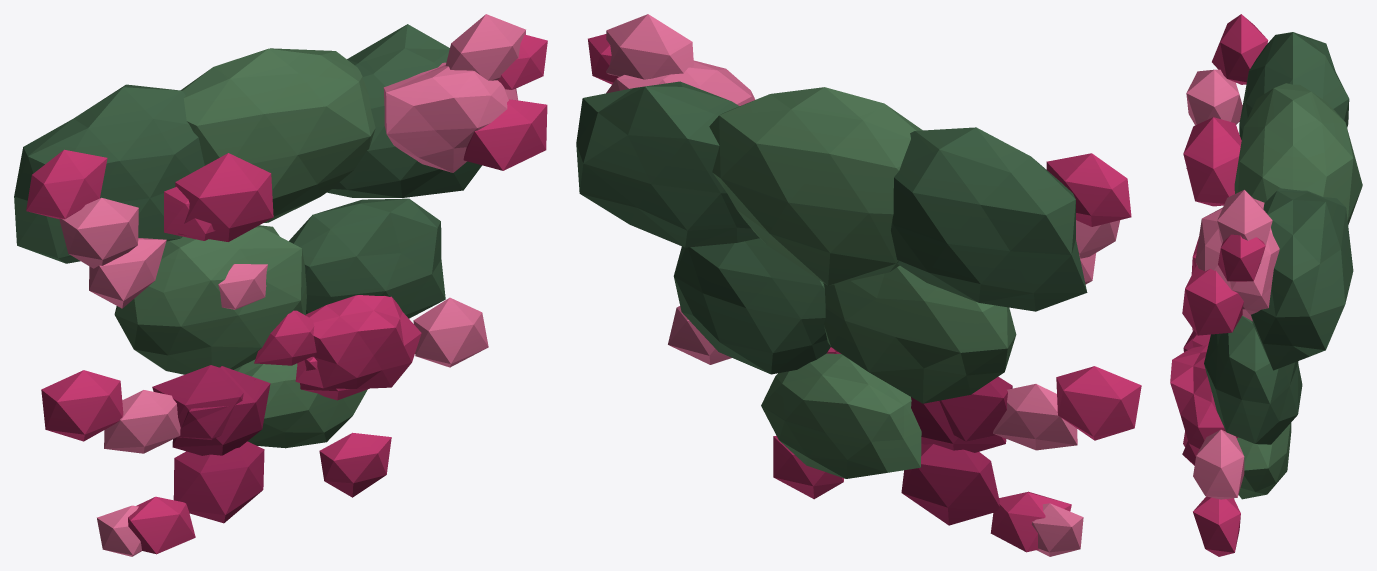
File: bougainvillea_spill.glb
The picture shows the model from 3 angles, left to right: view 1: azimuth 30°, elevation 25°; view 2: azimuth 150°, elevation 25°; view 3: azimuth 270°, elevation 25°; orthographic projection. The views are drawn at different scales.
Parts seen in each view (by area): view 1: bougainvillea_spill.001; view 2: bougainvillea_spill.001; view 3: bougainvillea_spill.001.
Part boxes in pixels (bbox=[...]): bougainvillea_spill.001: bbox=[14, 14, 547, 556]; bougainvillea_spill.001: bbox=[576, 14, 1141, 556]; bougainvillea_spill.001: bbox=[1170, 14, 1362, 556].
Size of the model in its own units: 2.87 by 2.32 by 0.9185.
Materials: 1 (1 with a texture image).
